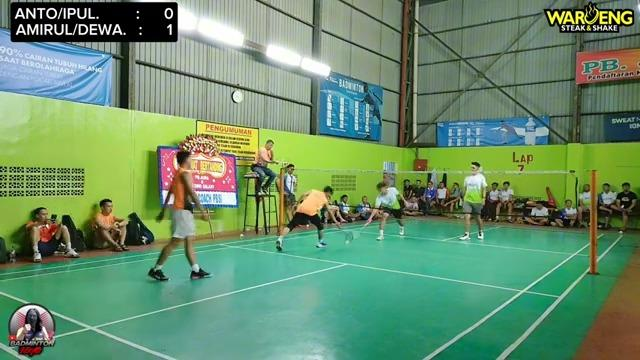Shuttlecock: (344, 236, 354, 248)
